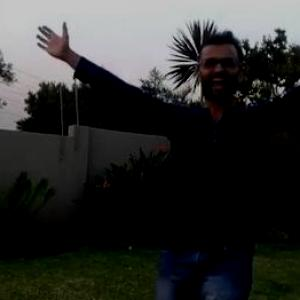takeoff: (49, 27, 299, 299)
